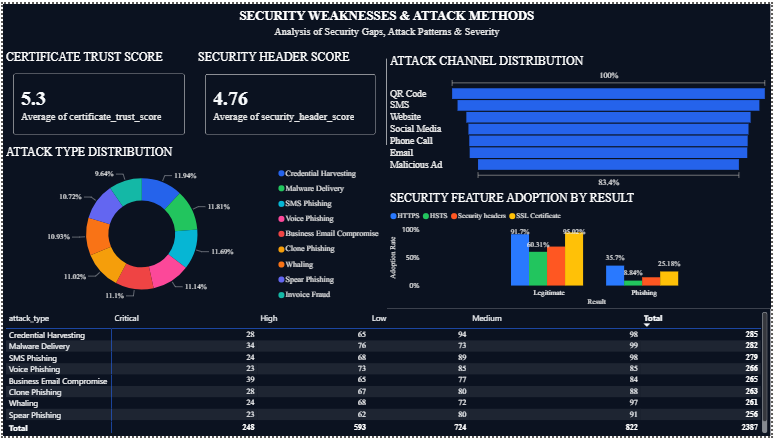

The dashboard page shown, as its layout file describes it:
{"tool":"powerbi","page":{"name":"Security","canvas":[1280,720],"ordinal":2},"visuals":[{"type":"textbox","title":"SECURITY WEAKNESSES & ATTACK METHODS","box":[0,0,1279.3,91.4],"z":0},{"type":"clusteredColumnChart","title":"SECURITY FEATURE ADOPTION BY RESULT","fields":{"Category":["phishing_dataset_advanced.result"],"Y":["Avg(phishing_dataset_advanced.has_https)","Avg(phishing_dataset_advanced.has_hsts)","Avg(phishing_dataset_advanced.has_security_headers)","Avg(phishing_dataset_advanced.ssl_certificate_valid)"]},"box":[639.7,310.3,639.7,198.3],"z":1000},{"type":"donutChart","title":"ATTACK TYPE DISTRIBUTION","fields":{"Category":["phishing_dataset_advanced.attack_type"],"Y":["CountNonNull(phishing_dataset_advanced.website_id)"]},"box":[0,234.5,639.7,274.1],"z":2000},{"type":"funnel","title":"ATTACK CHANNEL DISTRIBUTION","fields":{"Y":["CountNonNull(phishing_dataset_advanced.website_id)"],"Category":["phishing_dataset_advanced.attack_channel"]},"box":[639.7,75.9,639.7,234.5],"z":3000},{"type":"cardVisual","title":"CERTIFICATE TRUST SCORE","fields":{"Data":["Avg(phishing_dataset_advanced.certificate_trust_score)"]},"box":[0,75.9,320.7,158.6],"z":4000},{"type":"cardVisual","title":"SECURITY HEADER SCORE","fields":{"Data":["Avg(phishing_dataset_advanced.security_header_score)"]},"box":[320.7,75.9,319,158.6],"z":5000},{"type":"pivotTable","fields":{"Rows":["phishing_dataset_advanced.attack_type"],"Columns":["phishing_dataset_advanced.attack_severity"],"Values":["CountNonNull(phishing_dataset_advanced.website_id)"]},"box":[0,508.6,1279.3,212.1],"z":6000}]}

Visuals, with their boxes in screenshot pixels (x1, y1, x2, y2), scaled from the page's 1280x720 canvas onto the 774x441 screenshot:
"SECURITY WEAKNESSES & ATTACK METHODS" textbox: 0 0 773 56
"SECURITY FEATURE ADOPTION BY RESULT" clusteredColumnChart: 387 190 773 312
"ATTACK TYPE DISTRIBUTION" donutChart: 0 144 387 312
"ATTACK CHANNEL DISTRIBUTION" funnel: 387 46 773 190
"CERTIFICATE TRUST SCORE" cardVisual: 0 46 194 144
"SECURITY HEADER SCORE" cardVisual: 194 46 387 144
pivotTable - phishing_dataset_advanced.attack_type x phishing_dataset_advanced.attack_severity: 0 312 773 440
